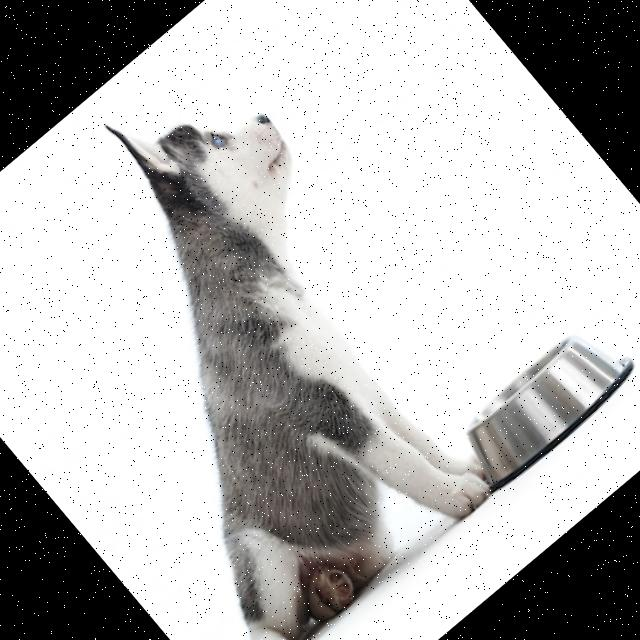Dog: (0, 37, 546, 640)
